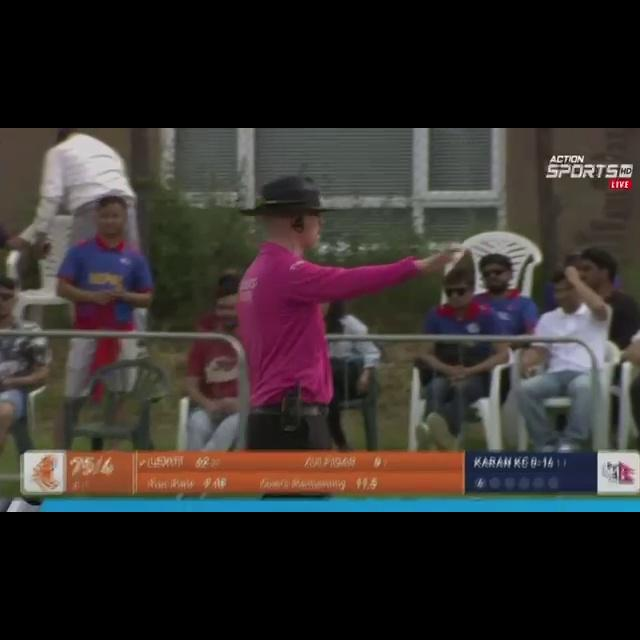umpire: (220, 168, 463, 451)
